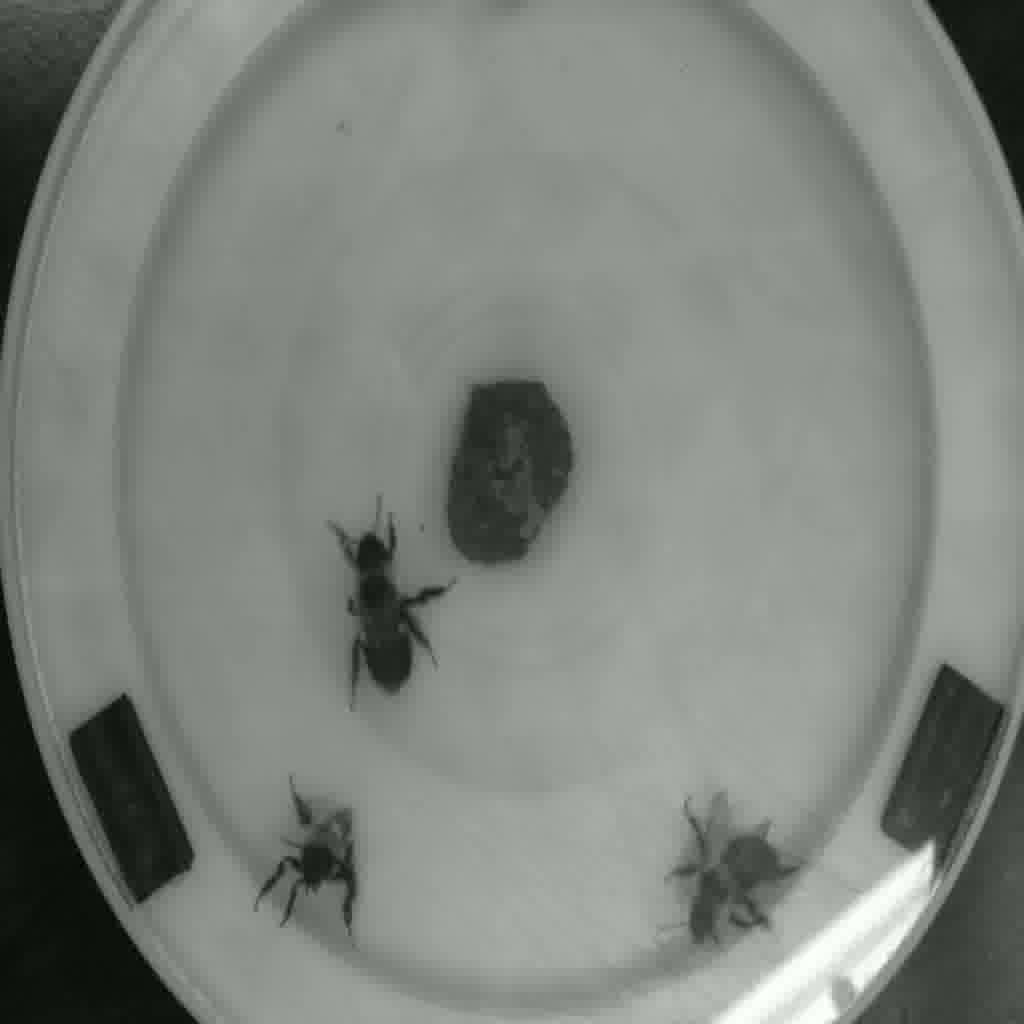bee: (307, 529, 475, 704), (232, 792, 389, 942), (651, 820, 802, 962)
